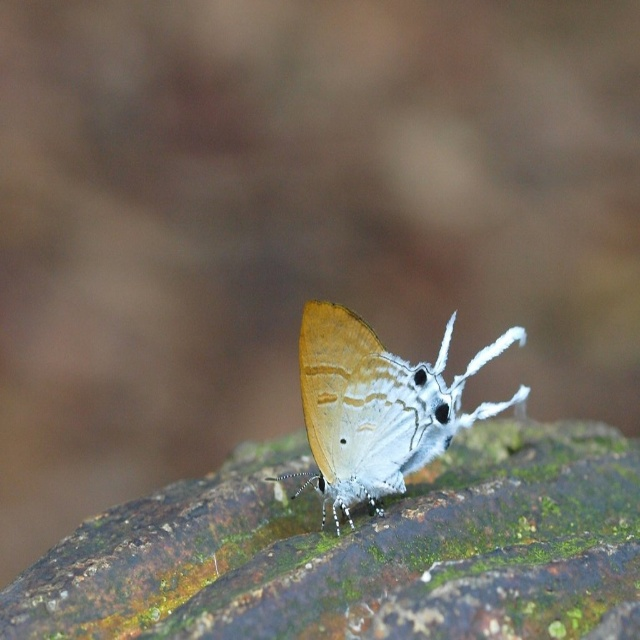Butterfly: (280, 300, 542, 521)
